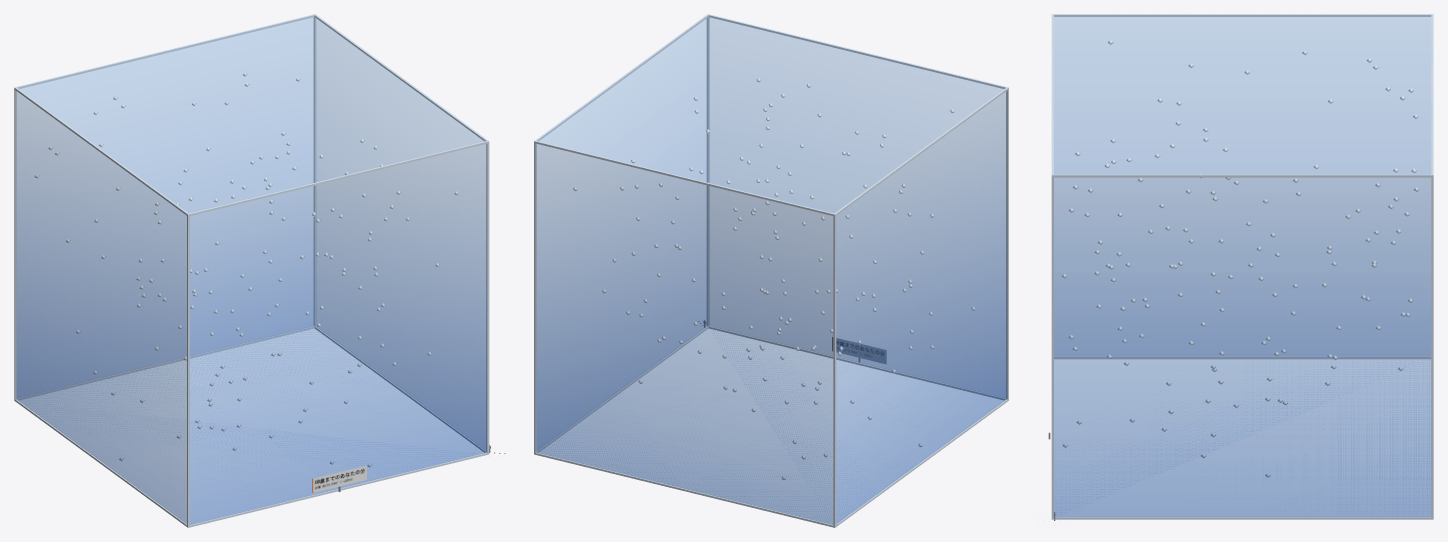
Rendered from cube_life_60.glb.
3 views of the same model, side by side, from view 1: azimuth 30°, elevation 25°; view 2: azimuth 150°, elevation 25°; view 3: azimuth 270°, elevation 25° (orthographic). The views are drawn at different scales.
Parts seen in each view (by area): view 1: co2, edge, dots, label; view 2: co2, edge, dots, label; view 3: co2, edge, dots.
Part boxes in pixels (bbox=[...]): co2: bbox=[16, 15, 486, 524]; edge: bbox=[14, 14, 489, 527]; dots: bbox=[34, 72, 458, 467]; label: bbox=[312, 465, 366, 492]; co2: bbox=[536, 15, 1006, 524]; edge: bbox=[534, 14, 1008, 527]; dots: bbox=[573, 78, 975, 480]; label: bbox=[832, 337, 886, 363]; co2: bbox=[1053, 15, 1432, 516]; edge: bbox=[1051, 14, 1433, 519]; dots: bbox=[1061, 40, 1419, 477].
Size of the model in its own units: 69.18 by 65.42 by 68.28.
Materials: 8 (3 with a texture image).
